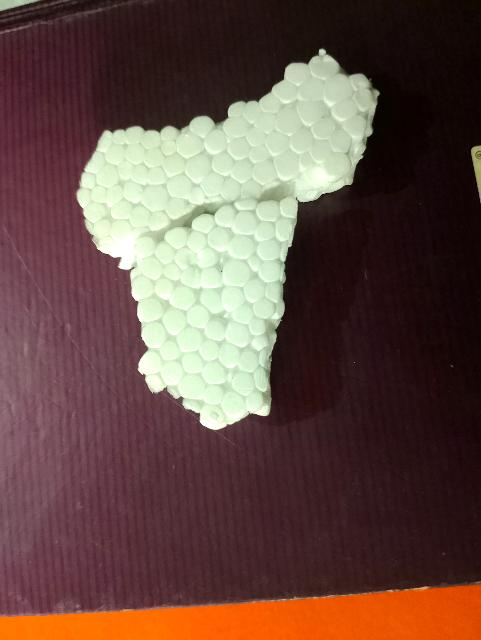cocksheet: (0, 0, 414, 437)
